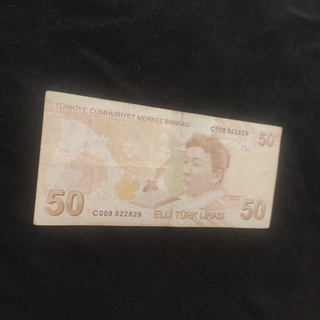50TLBack: (32, 90, 283, 229)
